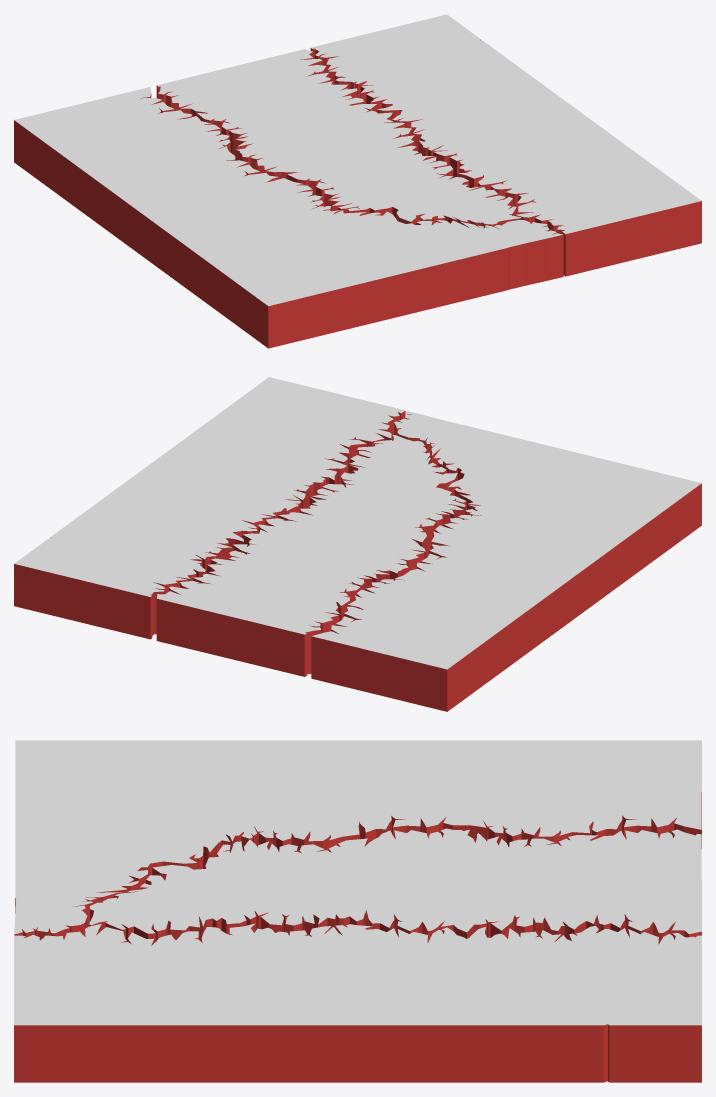
File: untitlesddssdd 3.fbx
3 renders of one model, top to bottom at view 1: azimuth 30°, elevation 25°; view 2: azimuth 150°, elevation 25°; view 3: azimuth 270°, elevation 25°, orthographic. The views are drawn at different scales.
Visible parts, largest first — view 1: Plane.009, Plane.010, Plane.008; view 2: Plane.009, Plane.010, Plane.008; view 3: Plane.010, Plane.009, Plane.008.
Boxes of the visible parts, x1=… form: Plane.009: x1=14, y1=87, x2=507, y2=348; Plane.010: x1=310, y1=14, x2=701, y2=276; Plane.008: x1=156, y1=49, x2=563, y2=289; Plane.009: x1=311, y1=424, x2=701, y2=711; Plane.010: x1=14, y1=377, x2=405, y2=639; Plane.008: x1=156, y1=411, x2=466, y2=676; Plane.010: x1=14, y1=923, x2=701, y2=1082; Plane.009: x1=15, y1=740, x2=701, y2=927; Plane.008: x1=14, y1=828, x2=701, y2=943.
Size of the model in its own units: 8263 by 772 by 8426.
